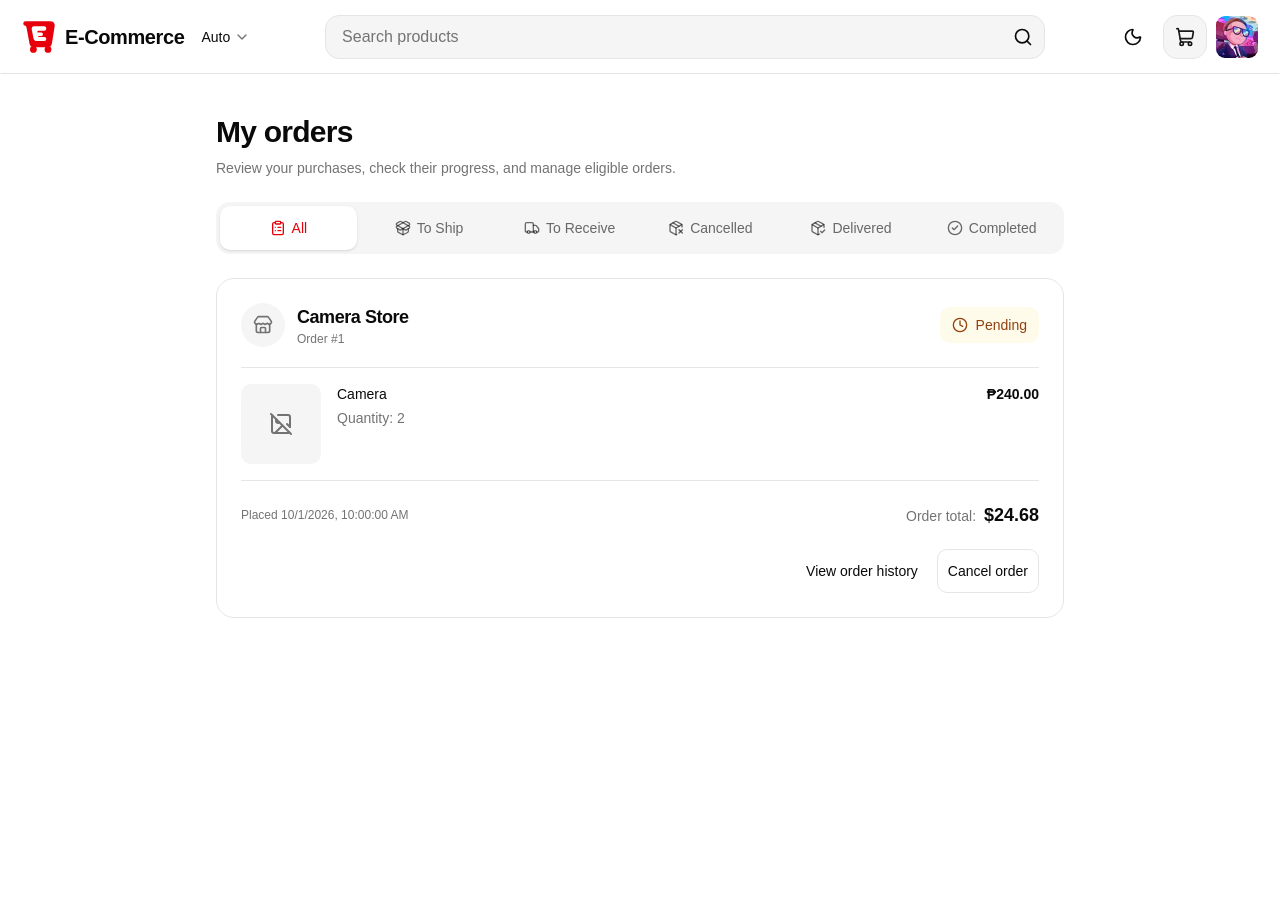
Test: paid confirmation states original card and pending refund can be checked
Click the button "Cancel order" at (988, 571), box x1=937 y1=549 x2=1039 y2=593
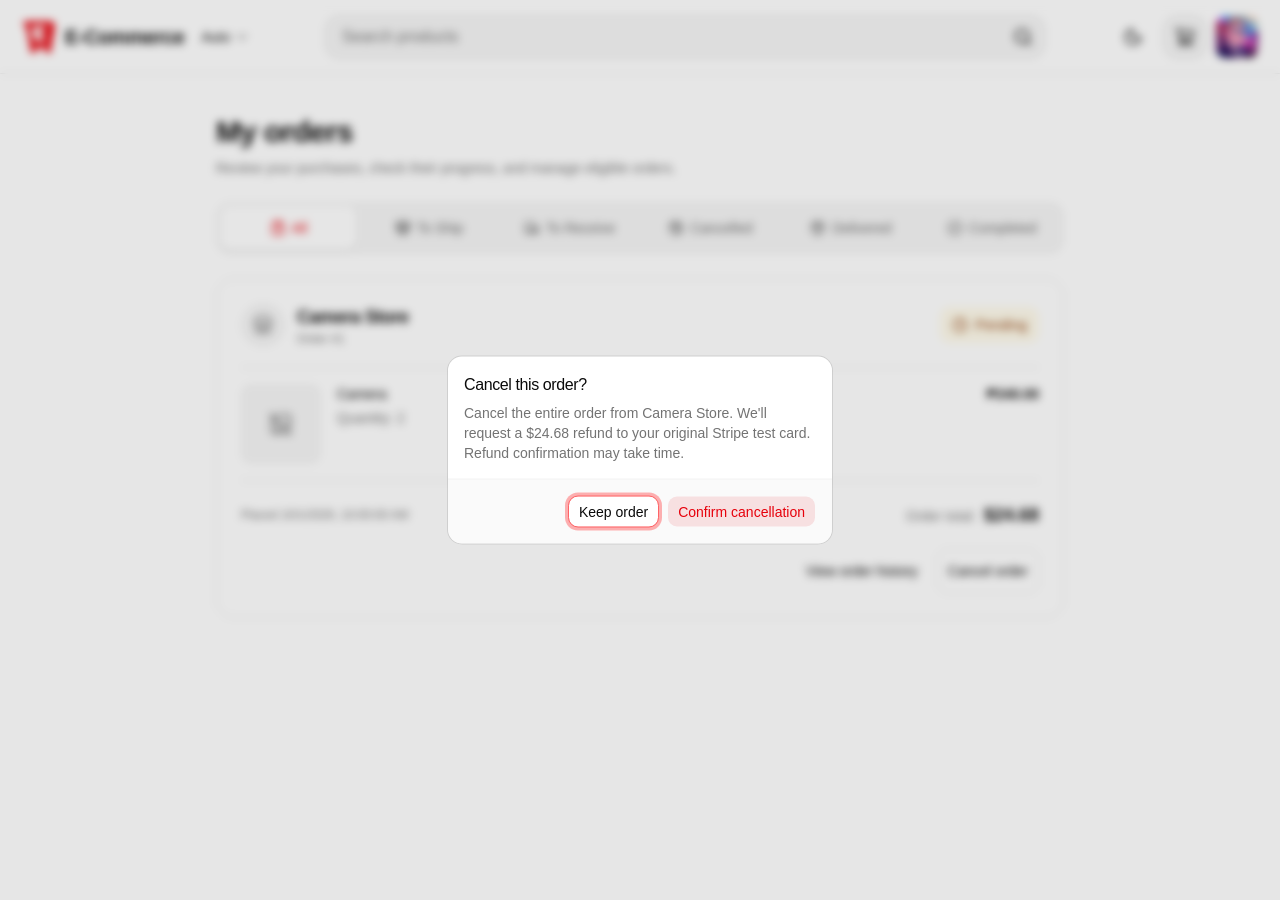
Click the button "Confirm cancellation" at (742, 512), box x1=667 y1=496 x2=816 y2=528
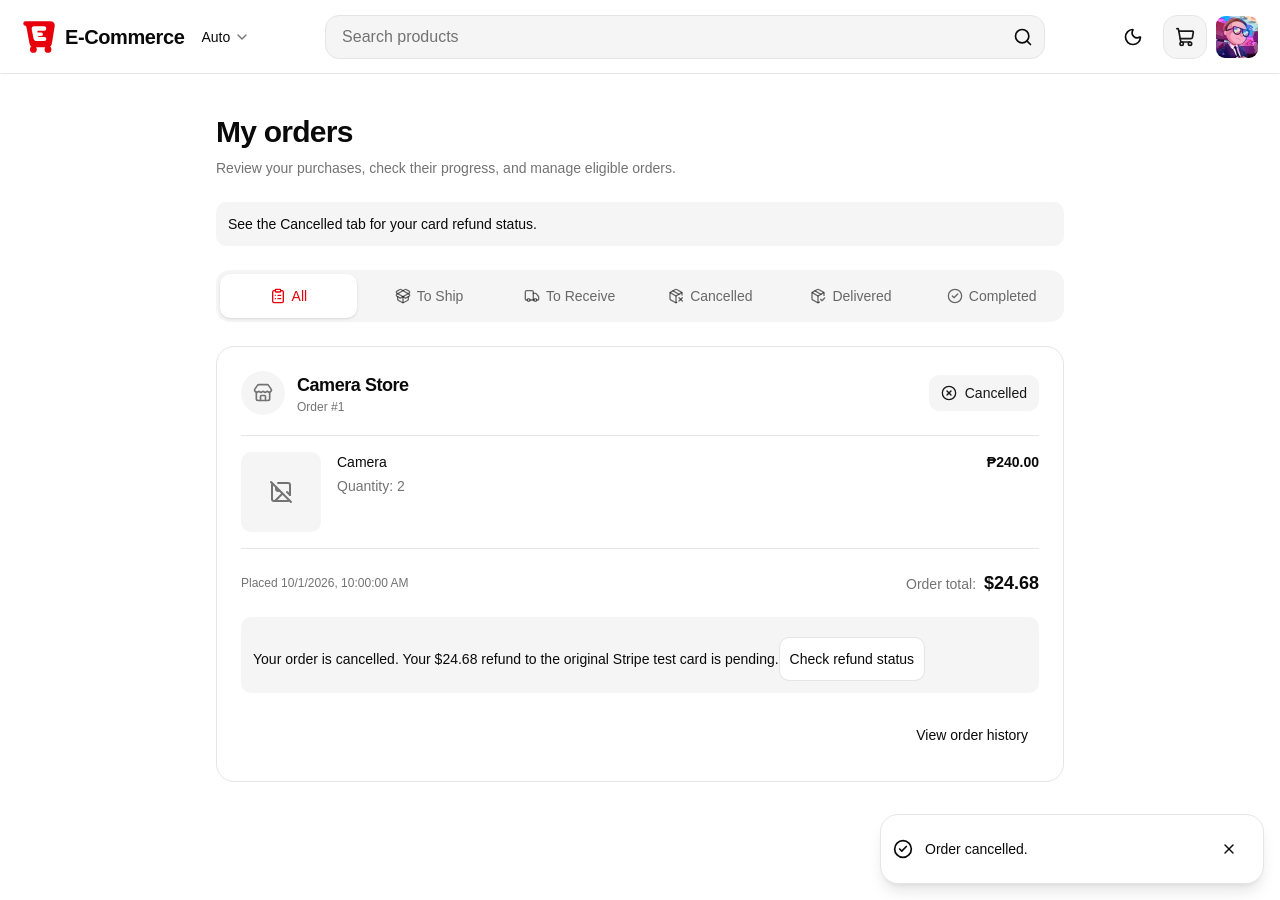
Click the button "Check refund status" at (852, 659), box x1=779 y1=637 x2=925 y2=681
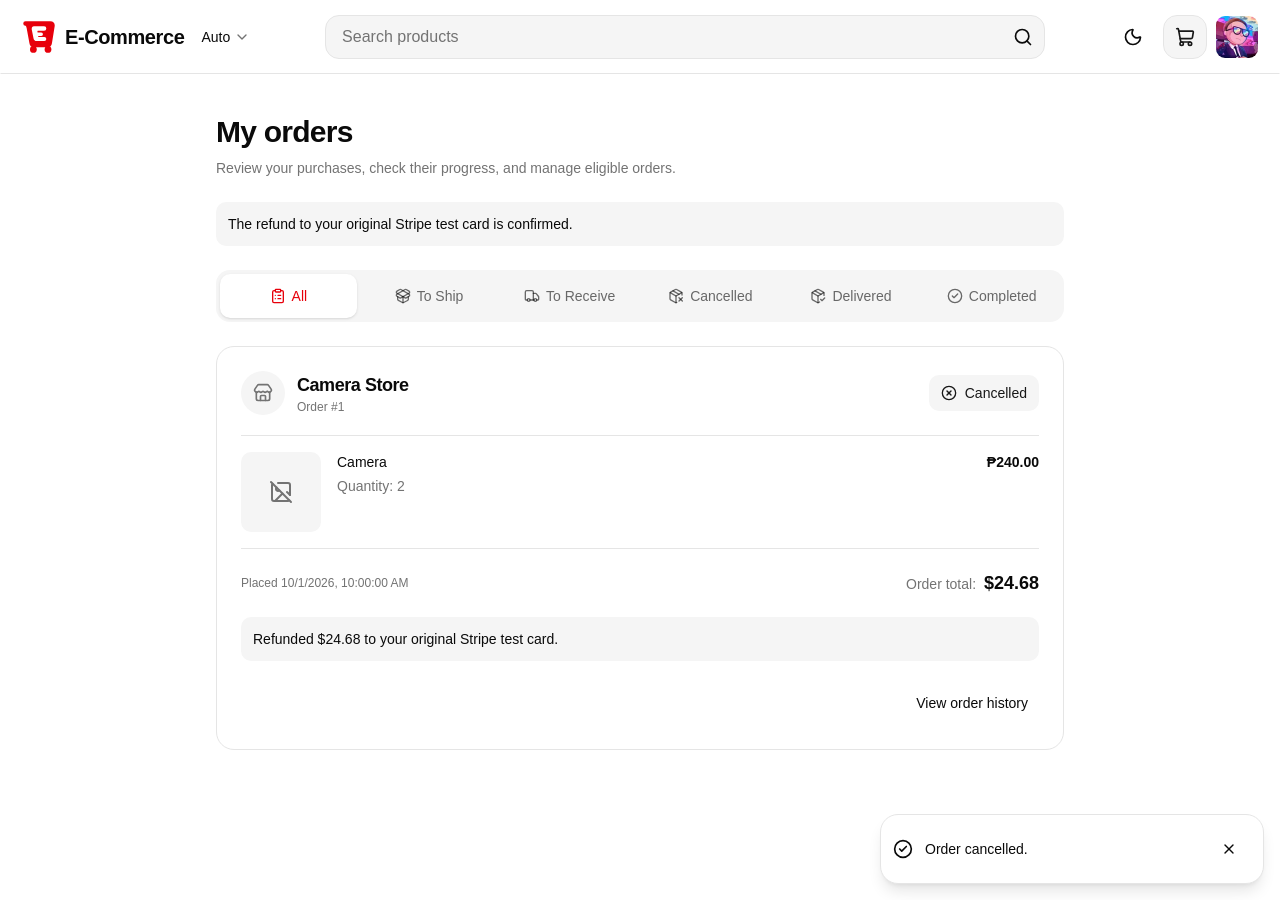
Check: the text "Refunded $24.68 to your original Stripe test card." is shown, box x1=241 y1=617 x2=1039 y2=661
